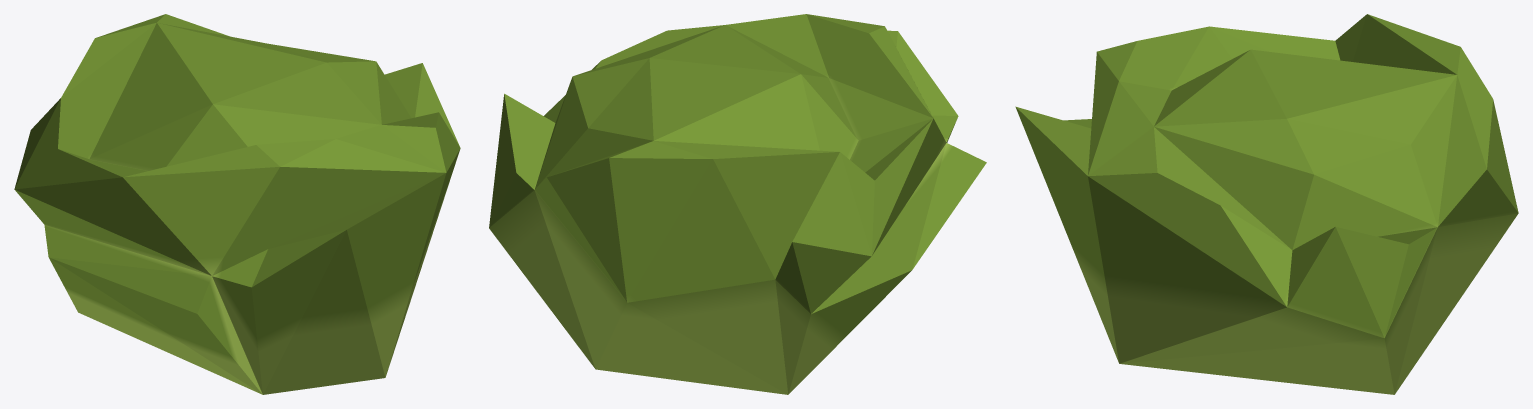
Rendered from SM_Prop_Lettuce_01_M.glb.
3 renders of one model, left to right at view 1: azimuth 30°, elevation 25°; view 2: azimuth 150°, elevation 25°; view 3: azimuth 270°, elevation 25°, orthographic. The views are drawn at different scales.
Parts seen in each view (by area): view 1: SM_Prop_Lettuce_01_M; view 2: SM_Prop_Lettuce_01_M; view 3: SM_Prop_Lettuce_01_M.
Boxes of the visible parts, left/top/right/bottom form: SM_Prop_Lettuce_01_M: left=14, top=14, right=460, bottom=394; SM_Prop_Lettuce_01_M: left=489, top=14, right=986, bottom=394; SM_Prop_Lettuce_01_M: left=1015, top=14, right=1518, bottom=394.
Bounding box in the file's own units: 0.2019 × 0.1316 × 0.213.
1 material, 1 textured.
